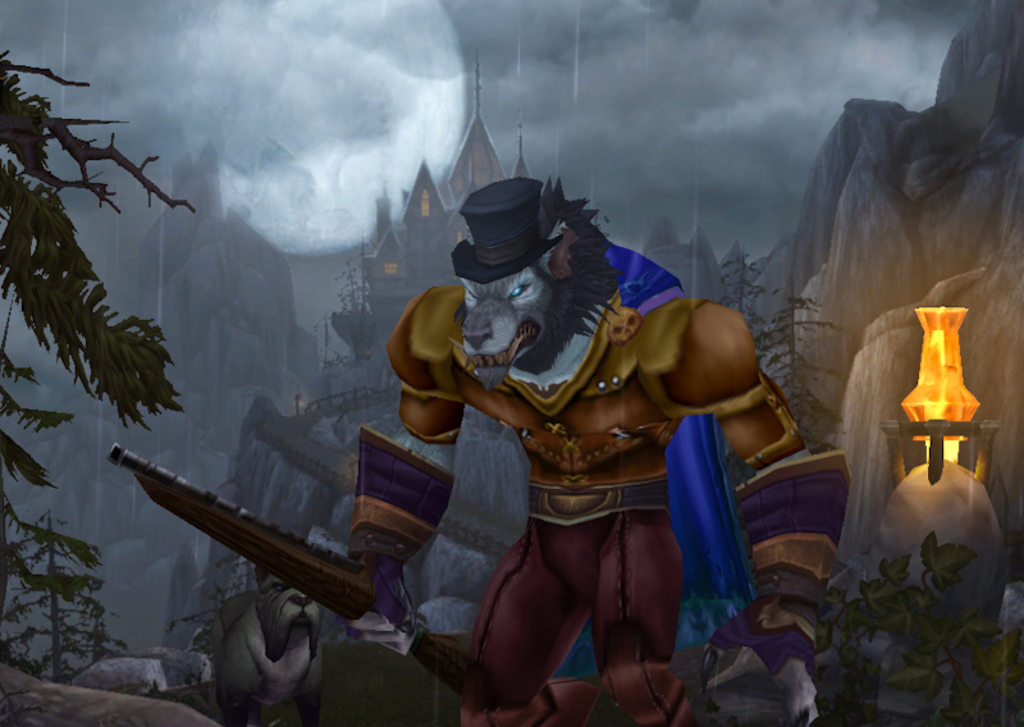Tree: (0, 48, 198, 727), (713, 246, 853, 459)
